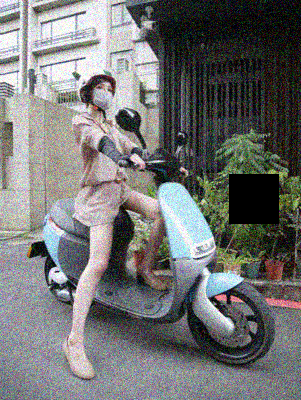with_mask: (89, 83, 114, 109)
